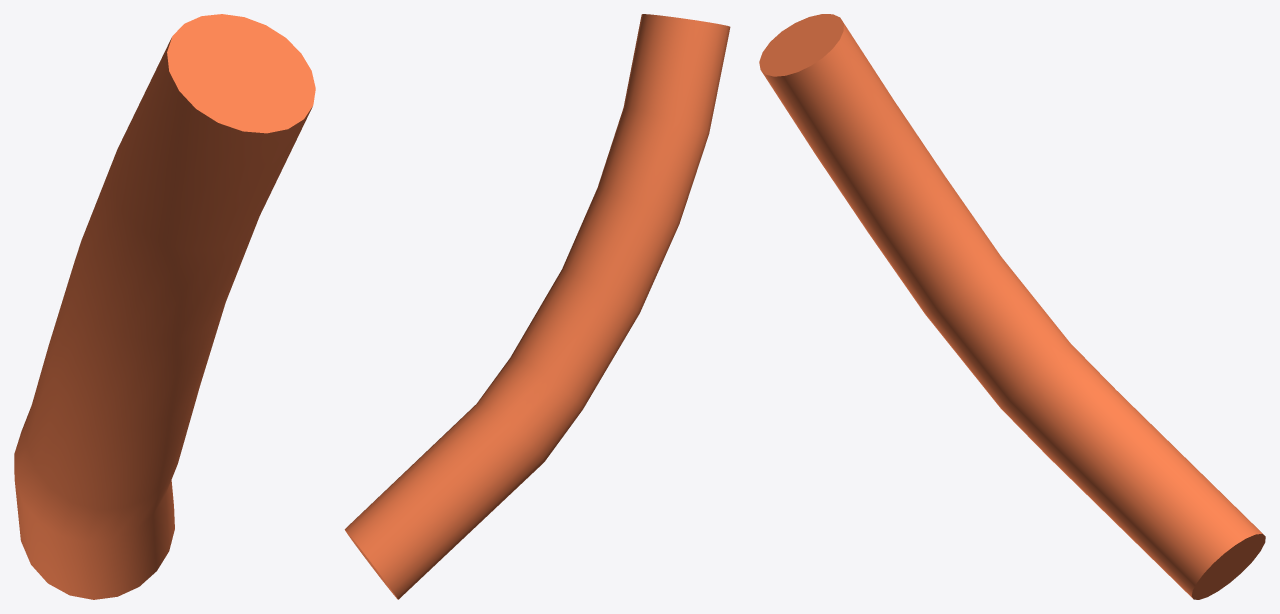
File: lacIPromoter.glb
3 views of the same model, side by side, from view 1: azimuth 30°, elevation 25°; view 2: azimuth 150°, elevation 25°; view 3: azimuth 270°, elevation 25° (orthographic). The views are drawn at different scales.
Parts seen in each view (by area): view 1: lacIPromoter; view 2: lacIPromoter; view 3: lacIPromoter.
Boxes of the visible parts, x1,y1,x2,y2 form: lacIPromoter: [14, 14, 315, 599]; lacIPromoter: [344, 14, 730, 599]; lacIPromoter: [759, 14, 1265, 599].
Size of the model in its own units: 0.2354 by 0.5611 by 0.4977.
